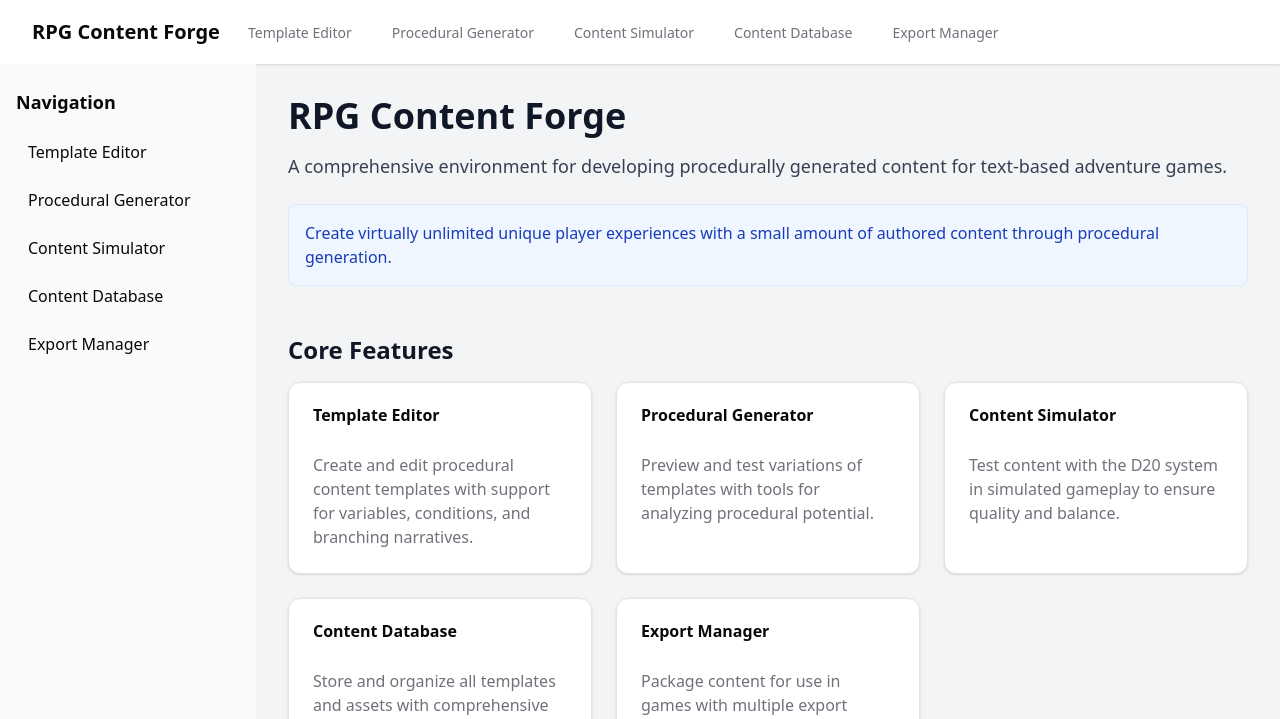
Test: Home Page › navigates to Content Simulator page
Note: Click on the Content Simulator card
Step 1. Click the 1st link "Content Simulator" → click(634, 33), box [574, 23, 694, 42]
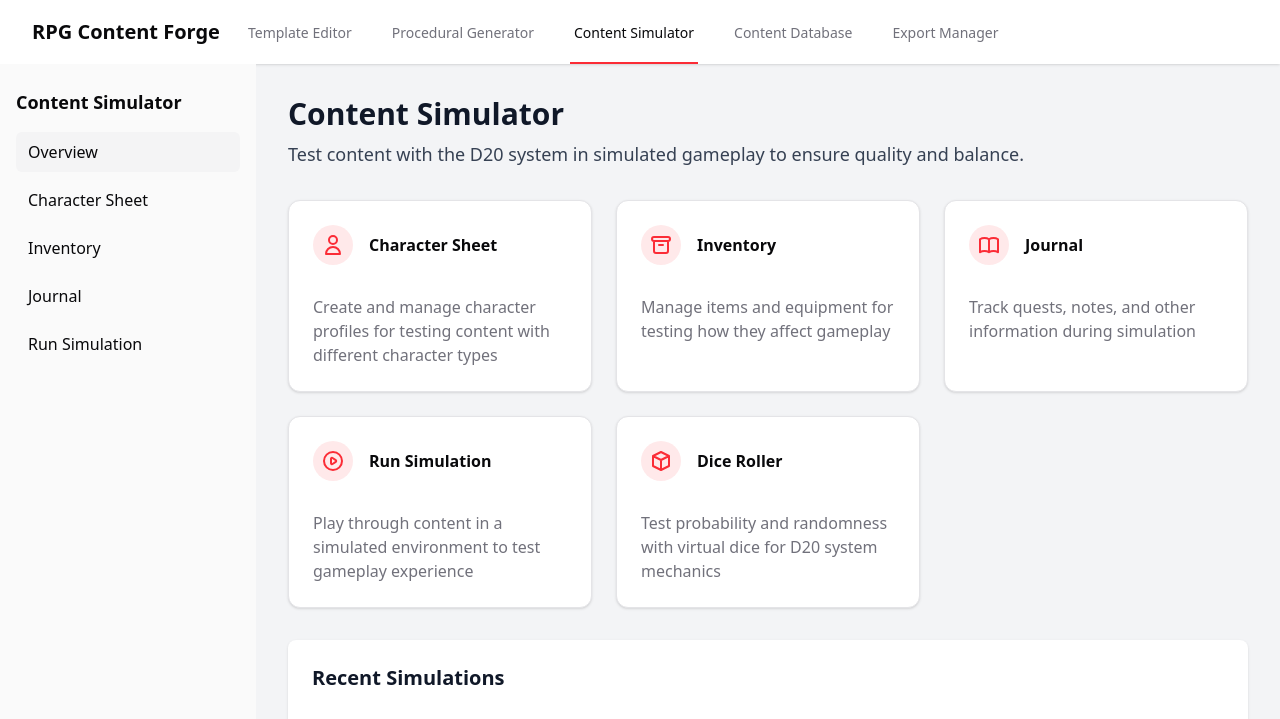
Check: the 2nd heading "Content Simulator" is shown, box [288, 93, 564, 134]
